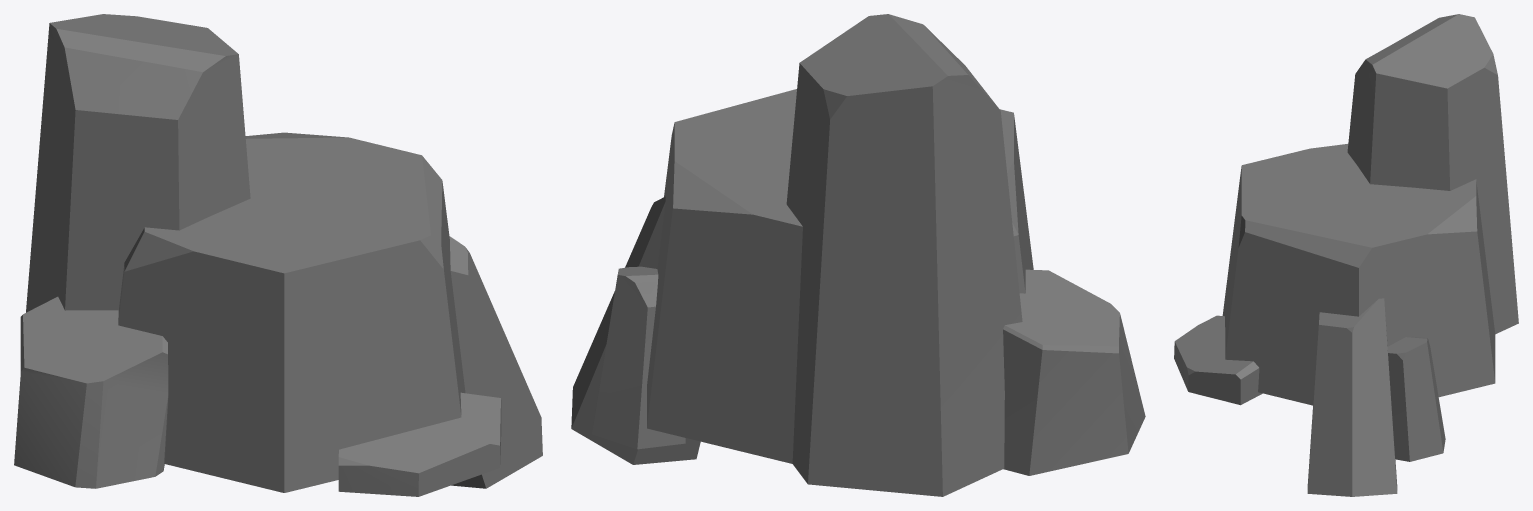
The model's file is rock_formation7.fbx.
The picture shows the model from 3 angles, left to right: view 1: azimuth 30°, elevation 25°; view 2: azimuth 150°, elevation 25°; view 3: azimuth 270°, elevation 25°; orthographic projection. The views are drawn at different scales.
Visible parts, largest first — view 1: rock; view 2: rock; view 3: rock.
Part boxes in pixels (bbox=[...]): rock: bbox=[14, 14, 542, 496]; rock: bbox=[571, 14, 1145, 496]; rock: bbox=[1174, 14, 1518, 496].
Size of the model in its own units: 1582 by 1390 by 1209.
1 material, 1 textured.
